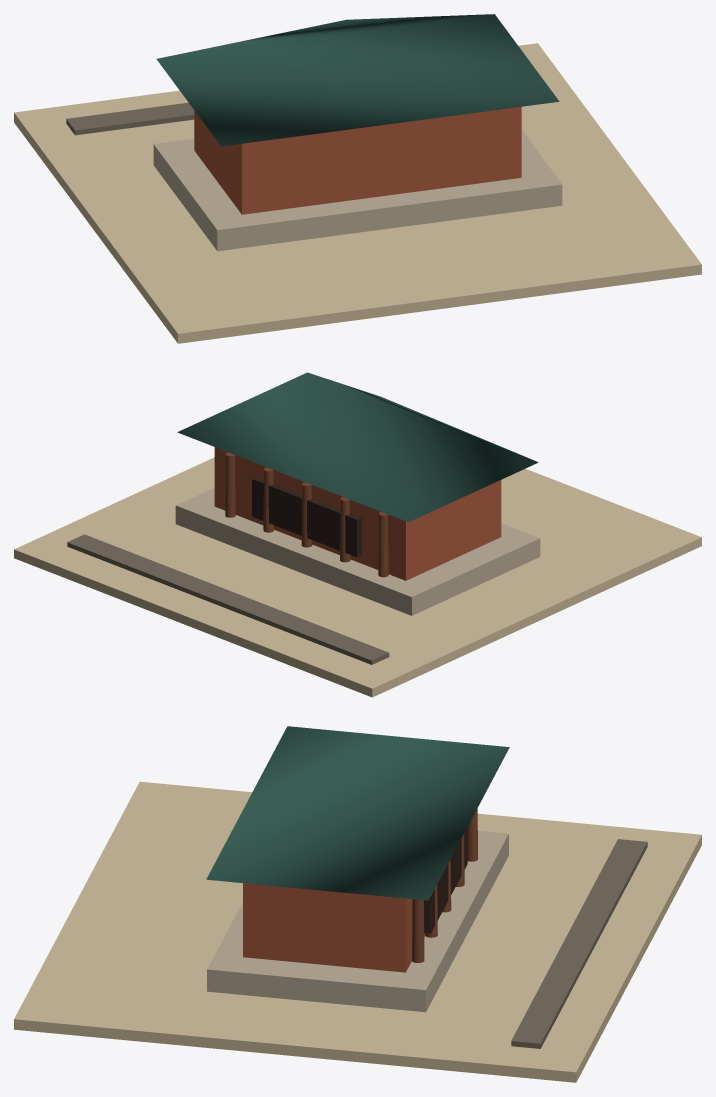
File: model-medium.glb
3 views of the same model, one above another, from view 1: azimuth 30°, elevation 25°; view 2: azimuth 150°, elevation 25°; view 3: azimuth 270°, elevation 25° (orthographic). The views are drawn at different scales.
Visible parts, largest first — view 1: context_site_plinth, sweeping_tiled_roof, main_hall_wall_volume, raised_ceremonial_platform, front_scale_strip; view 2: context_site_plinth, sweeping_tiled_roof, raised_ceremonial_platform, main_hall_wall_volume, front_scale_strip, central_shadow_door, front_column_1, front_column_5; view 3: context_site_plinth, sweeping_tiled_roof, raised_ceremonial_platform, main_hall_wall_volume, front_scale_strip, central_shadow_door, front_column_5.
Part boxes in pixels (left/top/right/bottom): context_site_plinth: left=14, top=43, right=701, bottom=343; sweeping_tiled_roof: left=156, top=14, right=559, bottom=146; main_hall_wall_volume: left=194, top=106, right=521, bottom=214; raised_ceremonial_platform: left=153, top=130, right=562, bottom=251; front_scale_strip: left=66, top=102, right=194, bottom=135; context_site_plinth: left=14, top=457, right=701, bottom=697; sweeping_tiled_roof: left=177, top=372, right=538, bottom=522; raised_ceremonial_platform: left=175, top=488, right=540, bottom=615; main_hall_wall_volume: left=214, top=447, right=501, bottom=580; front_scale_strip: left=67, top=534, right=389, bottom=664; central_shadow_door: left=252, top=477, right=361, bottom=557; front_column_1: left=378, top=512, right=388, bottom=577; front_column_5: left=225, top=452, right=235, bottom=517; context_site_plinth: left=14, top=781, right=701, bottom=1082; sweeping_tiled_roof: left=206, top=726, right=509, bottom=900; raised_ceremonial_platform: left=207, top=830, right=508, bottom=1012; main_hall_wall_volume: left=243, top=883, right=425, bottom=972; front_scale_strip: left=511, top=839, right=647, bottom=1048; central_shadow_door: left=424, top=827, right=467, bottom=933; front_column_5: left=412, top=899, right=424, bottom=962.
Bounding box in the file's own units: 9.55 × 2.62 × 9.55.
